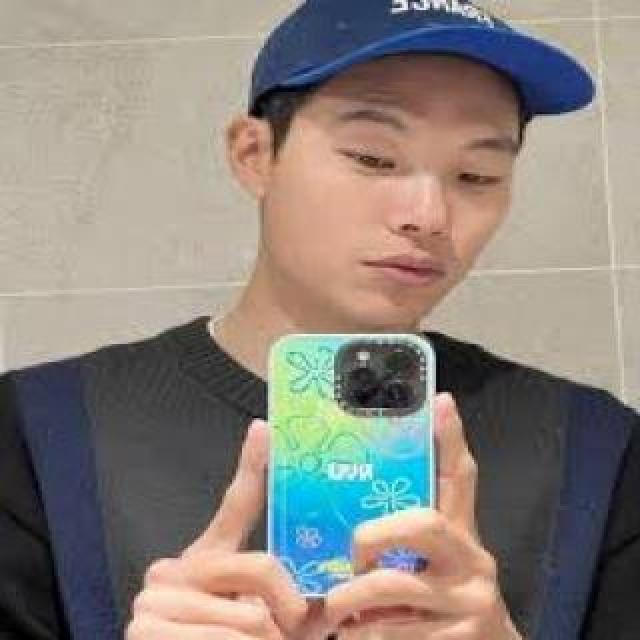smart phone: (258, 305, 448, 625)
